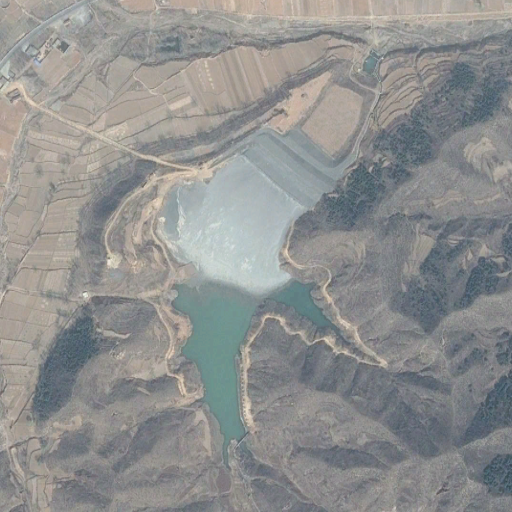tp: (161, 131, 336, 462)
